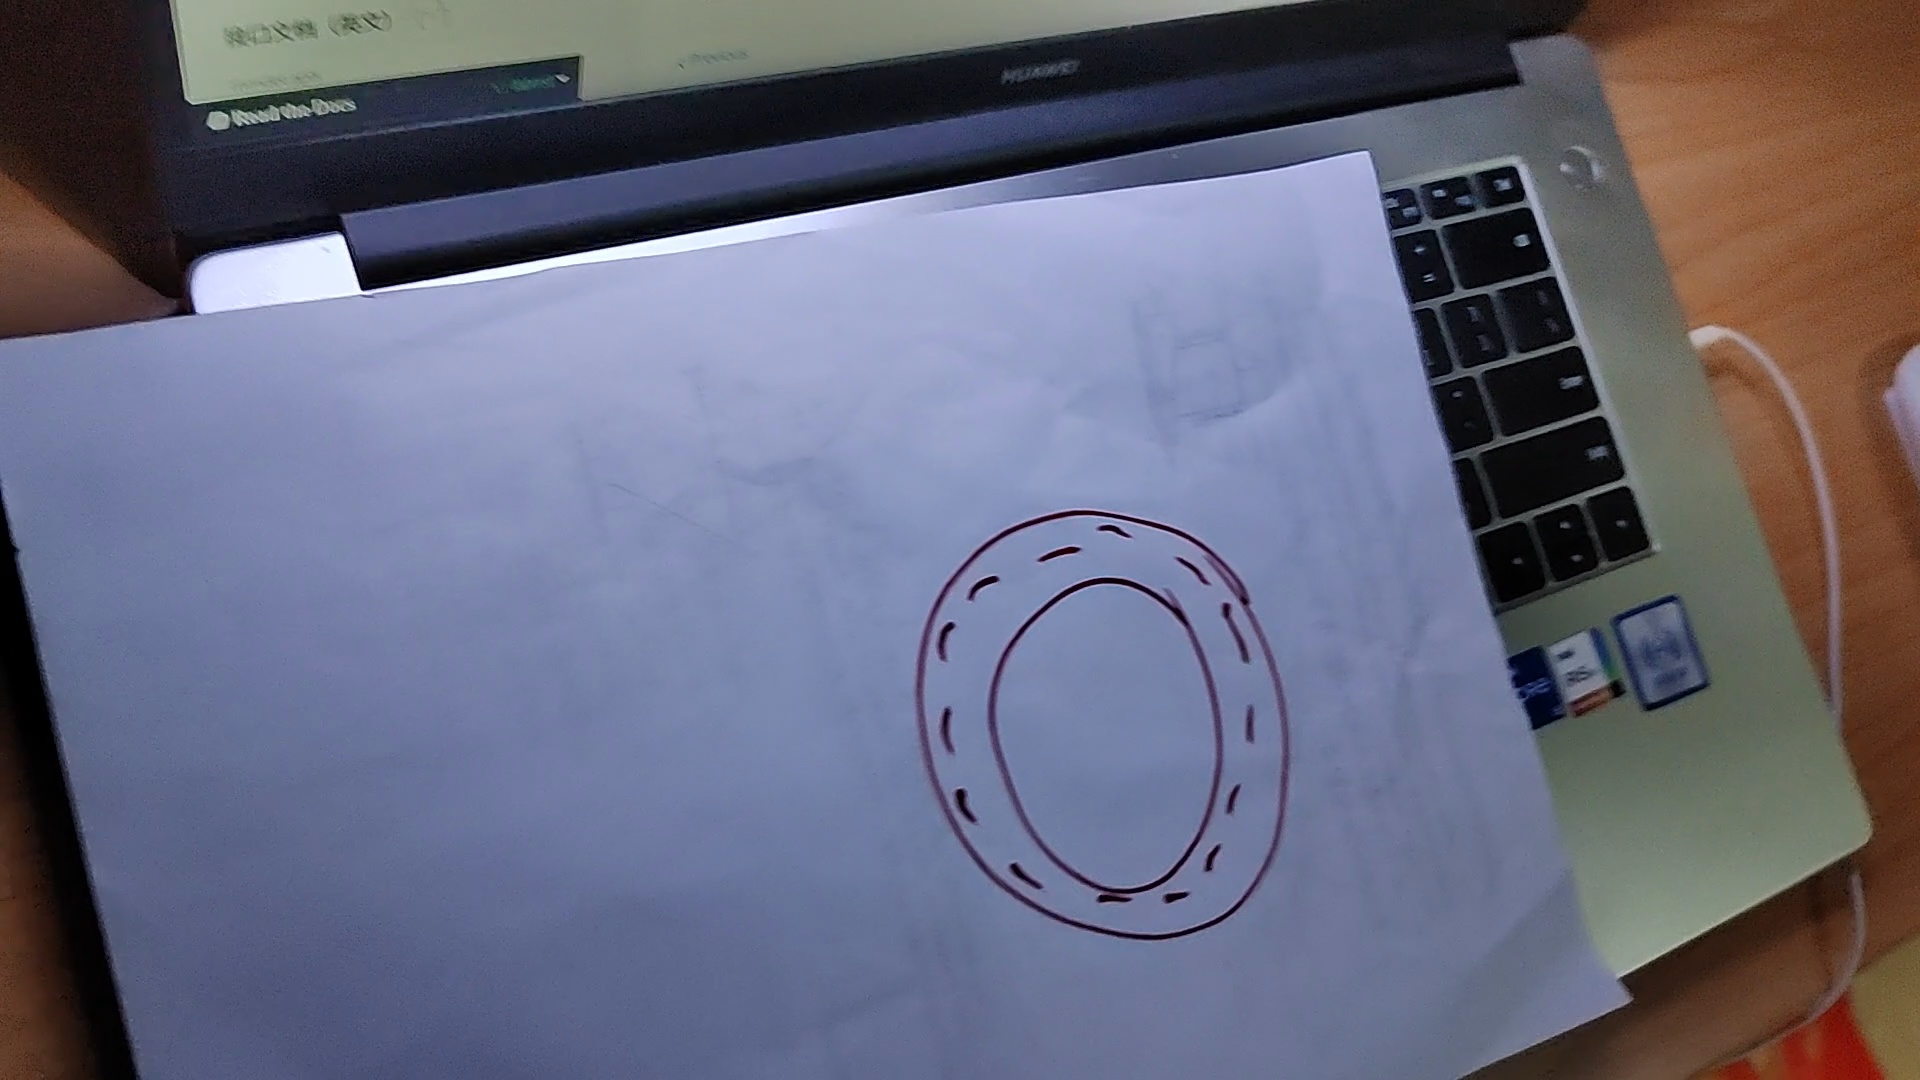circle: (916, 512, 1288, 942)
